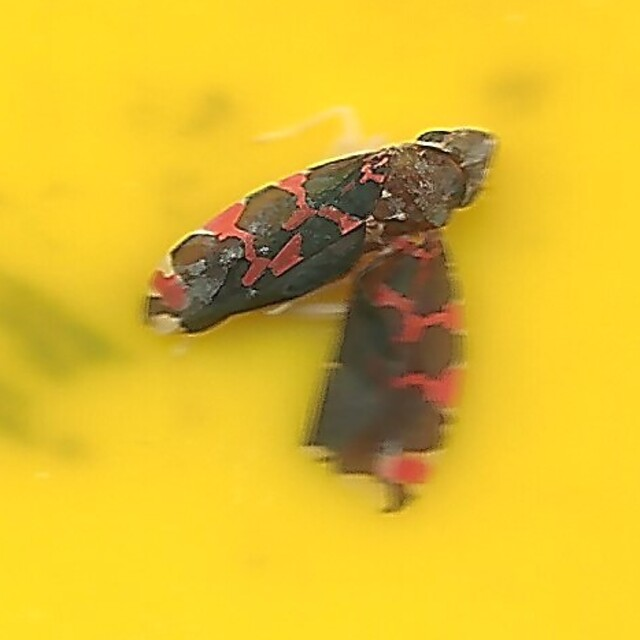Hemiptera: (137, 122, 503, 518)
